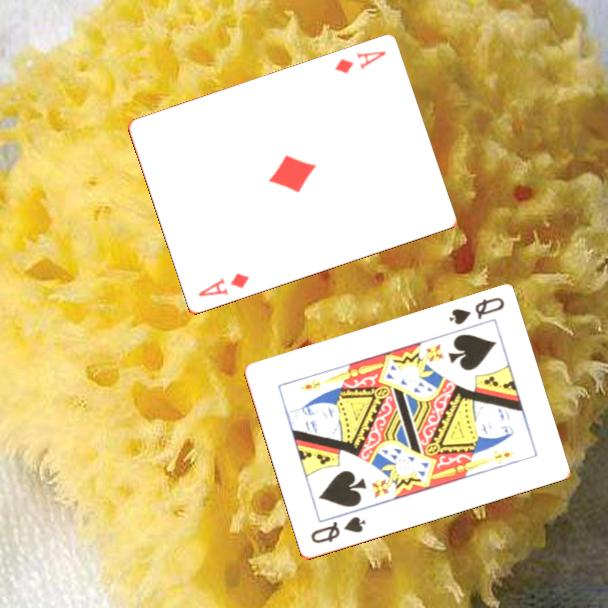d01: (195, 270, 252, 300), (331, 48, 389, 77)
s12: (307, 513, 369, 547), (445, 294, 507, 328)
